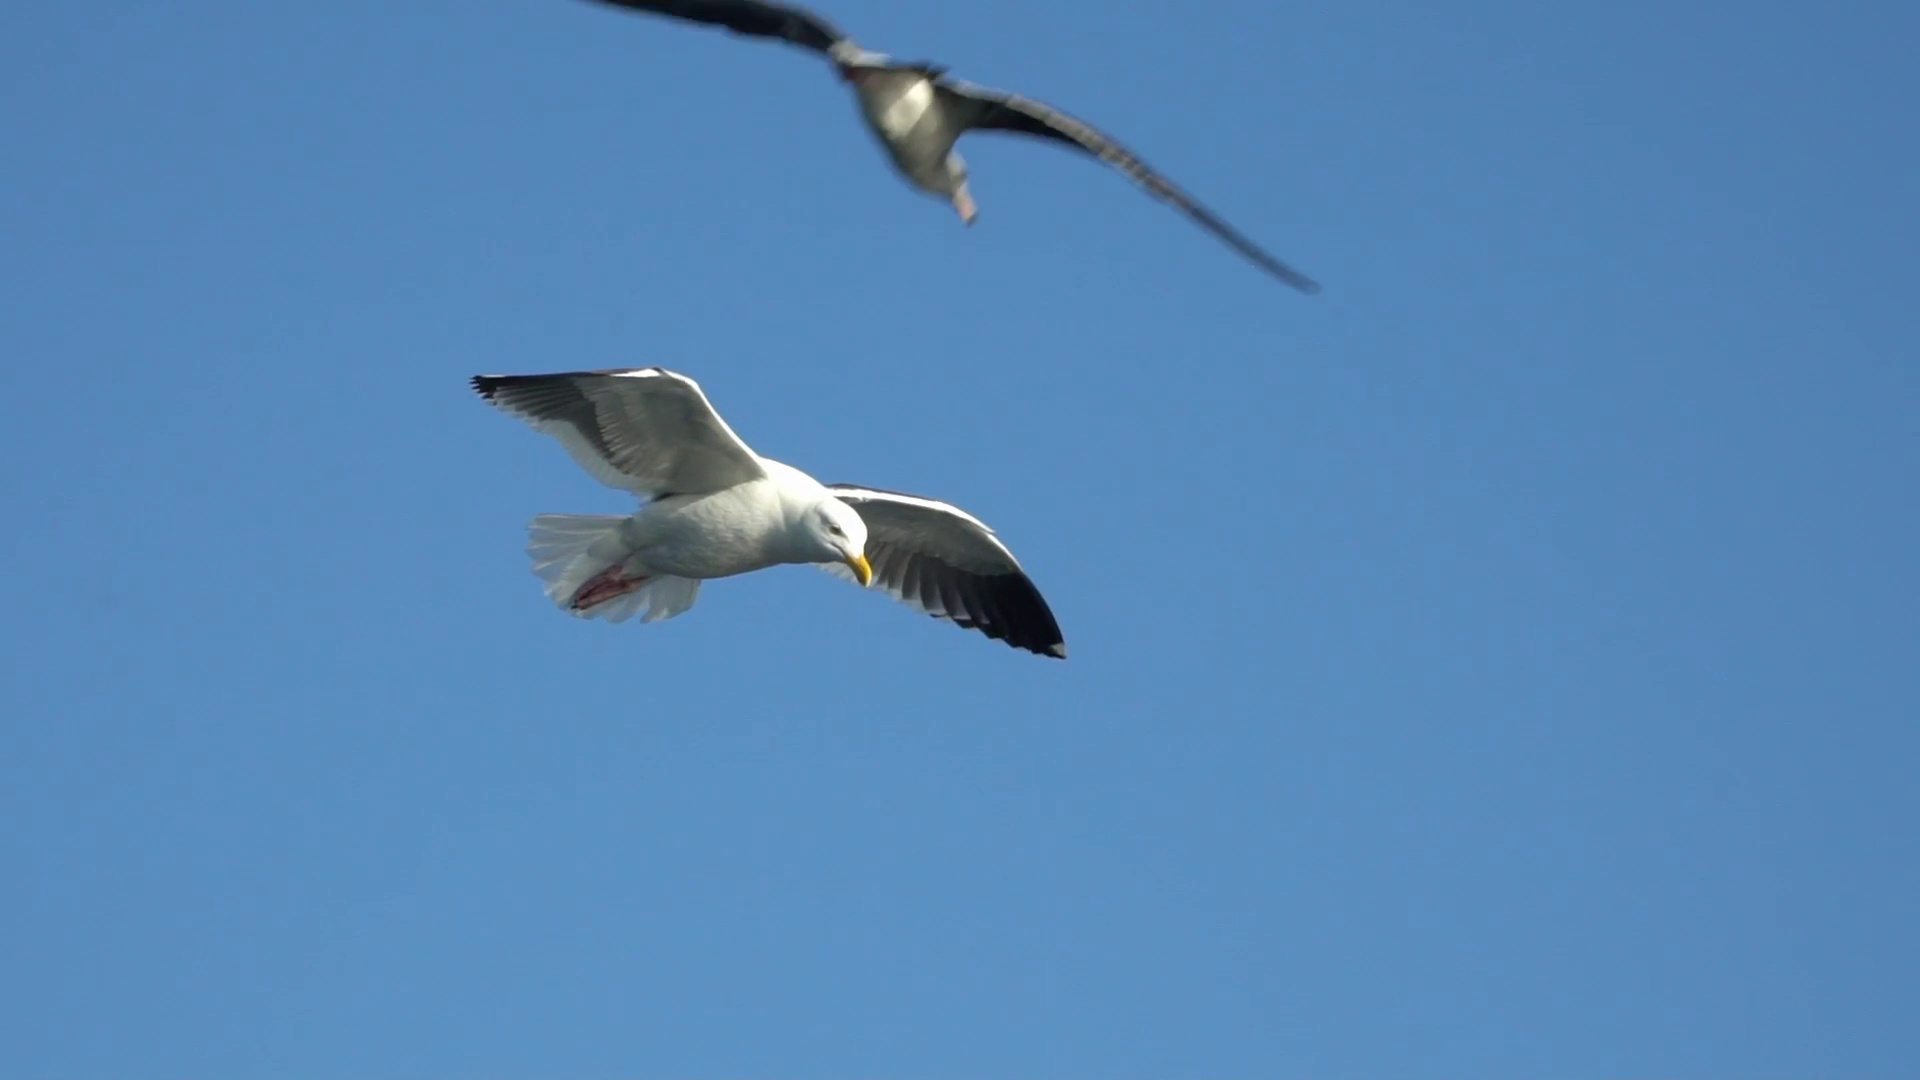bird: (597, 0, 1321, 289), (467, 365, 1065, 665)
